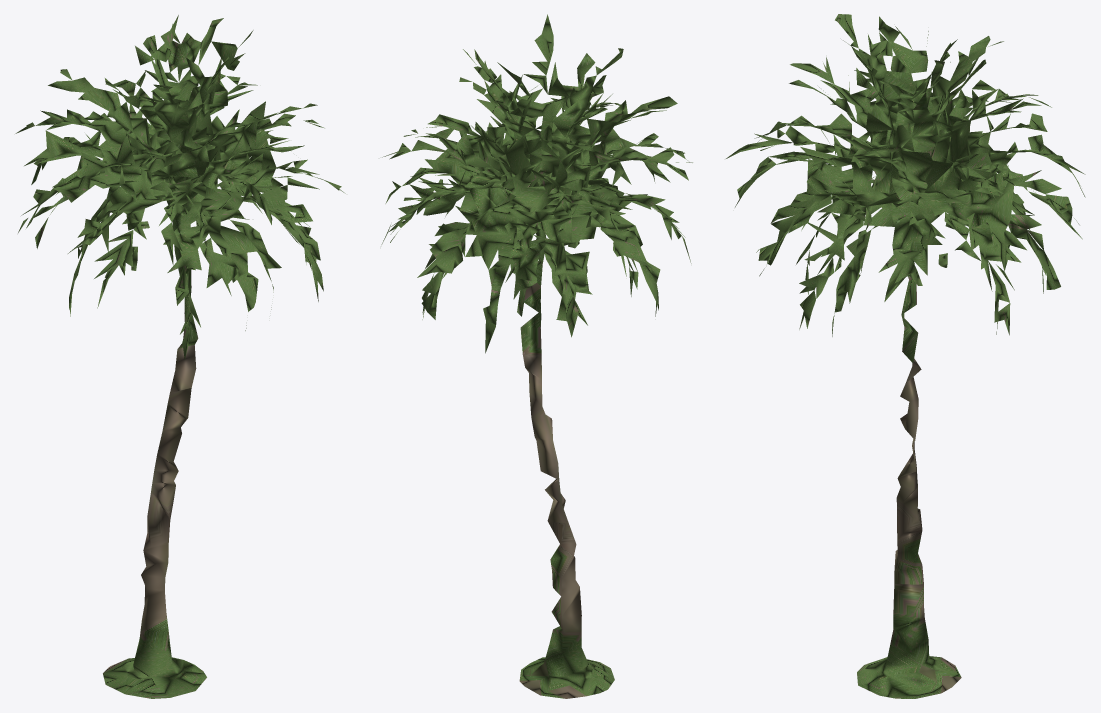
Rendered from palmier.glb.
3 views of the same model, side by side, from view 1: azimuth 30°, elevation 25°; view 2: azimuth 150°, elevation 25°; view 3: azimuth 270°, elevation 25° (orthographic). The views are drawn at different scales.
Size of the model in its own units: 0.8641 by 1.88 by 0.9249.
Materials: 1 (1 with a texture image).
